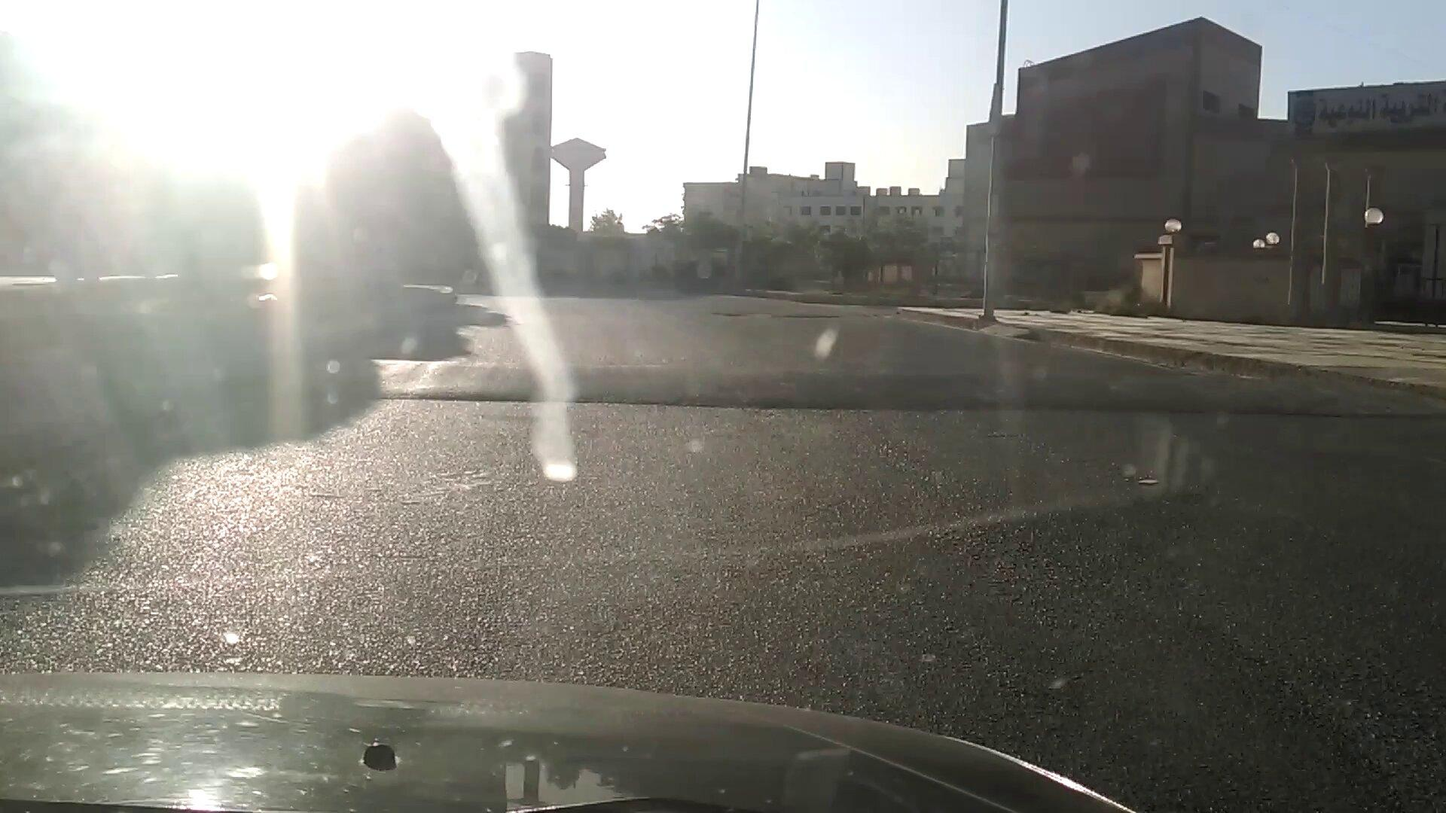Bump: (142, 324, 1445, 426)
